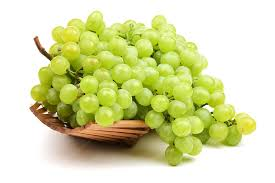Green grapes: (34, 14, 261, 159)
